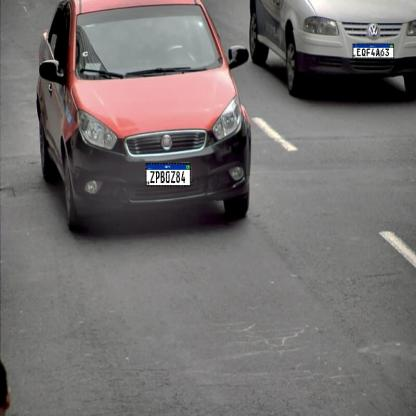PlacaM: (146, 163, 190, 186), (353, 44, 394, 58)
